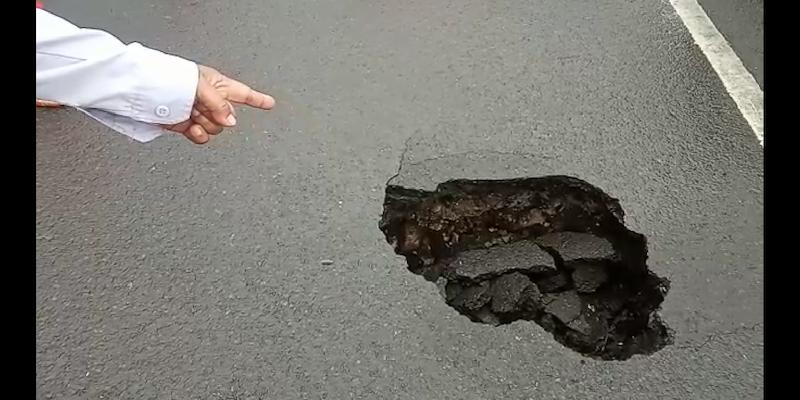Pothole: (381, 173, 681, 362)
